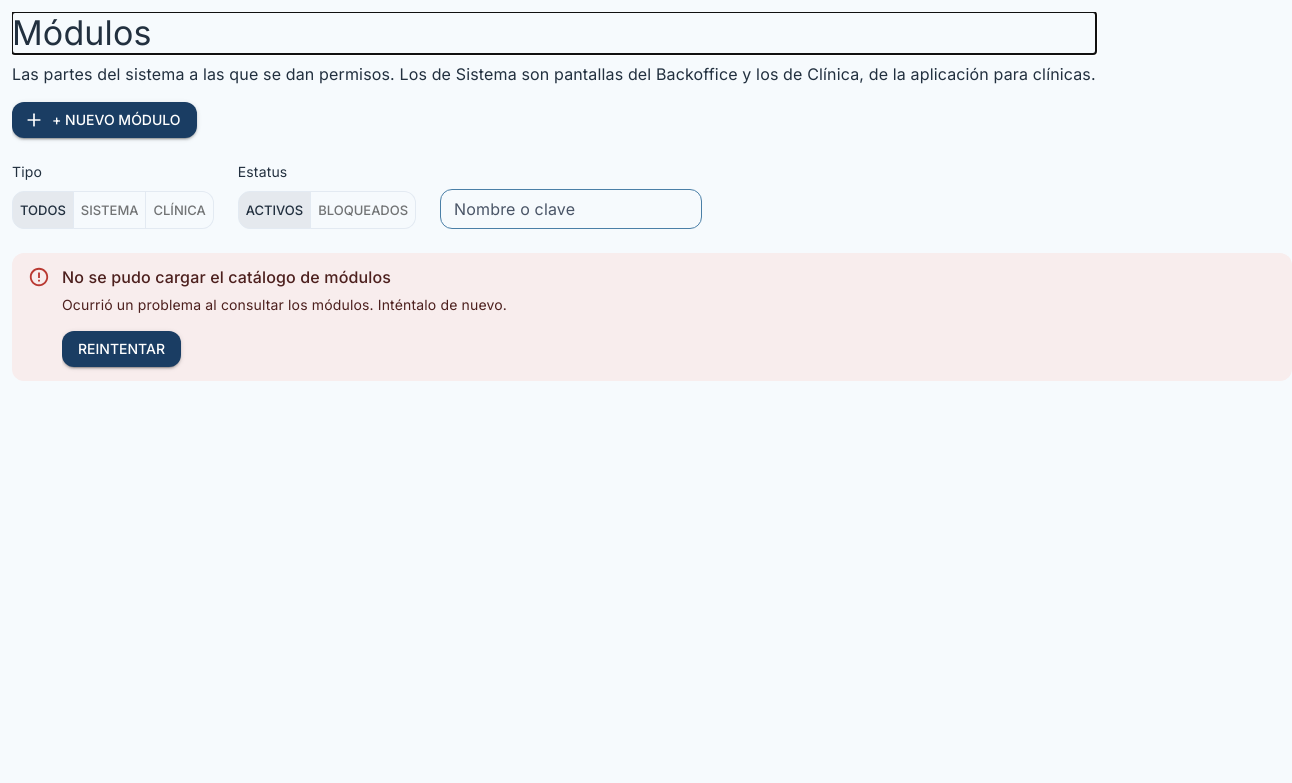
Test: ModulesPage › shows an error state with retry when the load fails
Click the button "Reintentar".
click(122, 349)  # box [62,331,181,367]
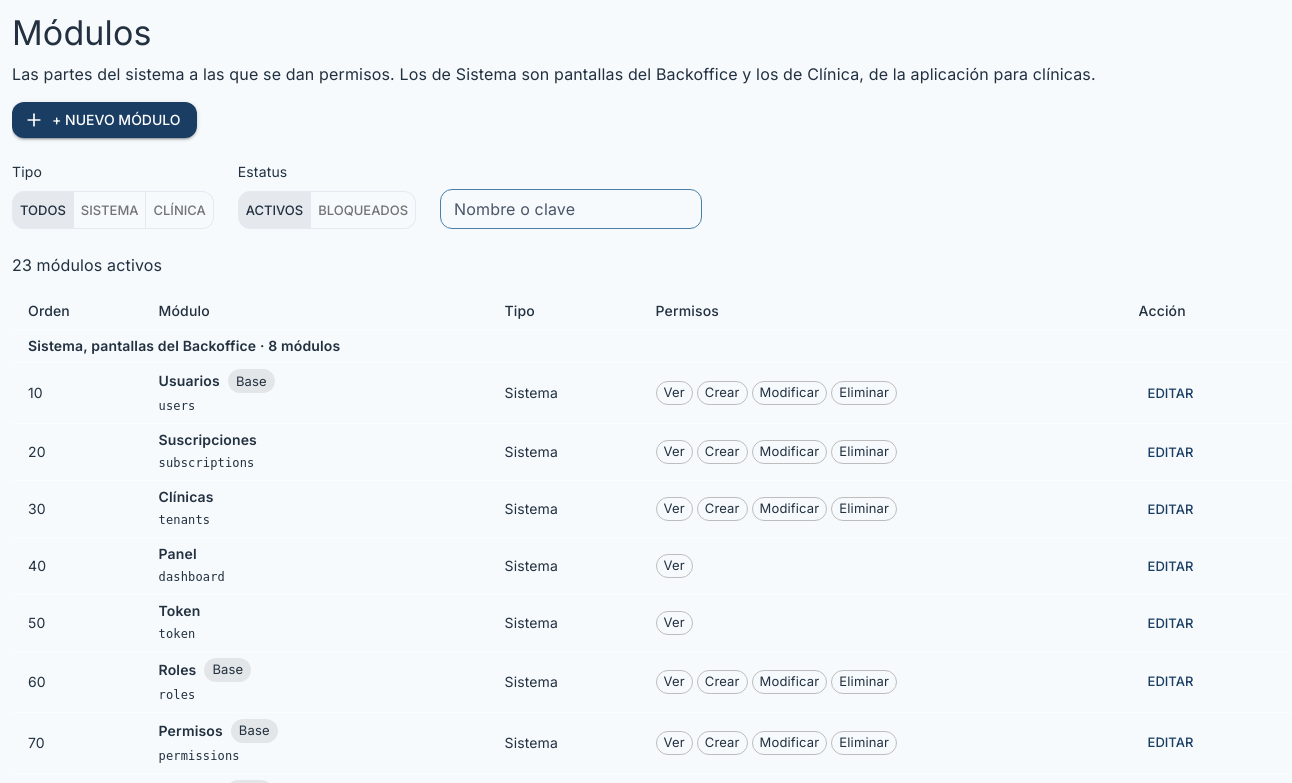
Check: the text "23 módulos activos" is shown, box [12,255,162,275]
